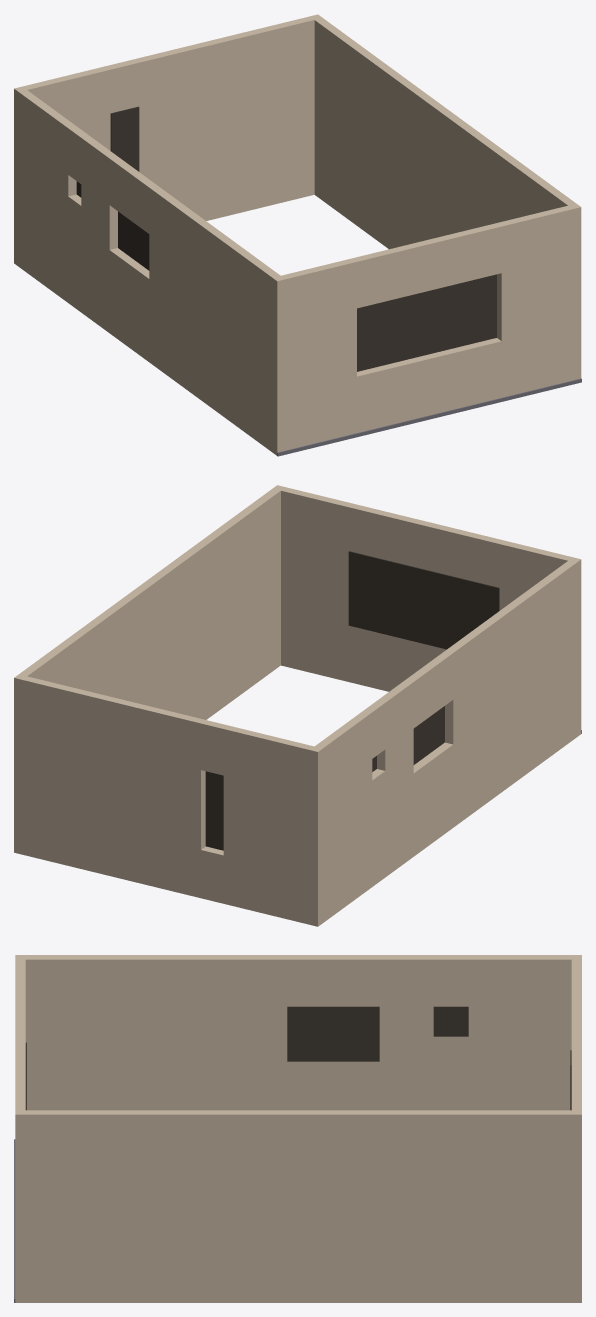
File: SM_Floor_NarrowUpperWindowEndL_Cream_546_Back_01.gltf
The picture shows the model from 3 angles, top to bottom: view 1: azimuth 30°, elevation 25°; view 2: azimuth 150°, elevation 25°; view 3: azimuth 270°, elevation 25°; orthographic projection. The views are drawn at different scales.
Parts seen in each view (by area): view 1: SM_Floor_NarrowUpperWindowEndL_Cream_546_Back_01; view 2: SM_Floor_NarrowUpperWindowEndL_Cream_546_Back_01; view 3: SM_Floor_NarrowUpperWindowEndL_Cream_546_Back_01.
Part boxes in pixels (<box>): SM_Floor_NarrowUpperWindowEndL_Cream_546_Back_01: <box>14,14,581,456</box>; SM_Floor_NarrowUpperWindowEndL_Cream_546_Back_01: <box>14,485,581,926</box>; SM_Floor_NarrowUpperWindowEndL_Cream_546_Back_01: <box>14,955,581,1302</box>.
Size of the model in its own units: 5.46 by 3 by 8.21.
Materials: 1 (1 with a texture image).
